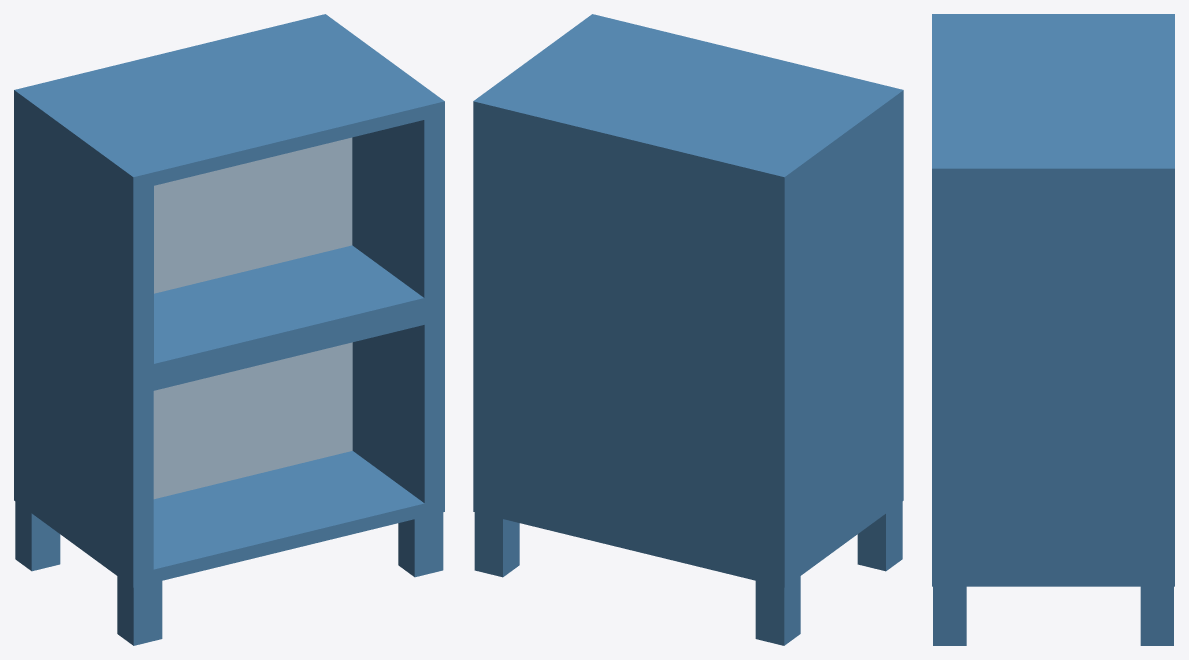
Rendered from drawer.gltf.
3 renders of one model, left to right at view 1: azimuth 30°, elevation 25°; view 2: azimuth 150°, elevation 25°; view 3: azimuth 270°, elevation 25°, orthographic.
Parts seen in each view (by area): view 1: body, back, legs; view 2: body, legs; view 3: body, legs.
Part boxes in pixels (box(x1,y1,x2,y2)): body: box(14, 14, 444, 587); back: box(153, 137, 352, 499); legs: box(15, 501, 443, 645); body: box(473, 14, 903, 587); legs: box(474, 501, 902, 645); body: box(932, 14, 1174, 586); legs: box(933, 586, 1173, 645).
Bounding box in the file's own units: 2.05 × 2.96 × 1.36.
